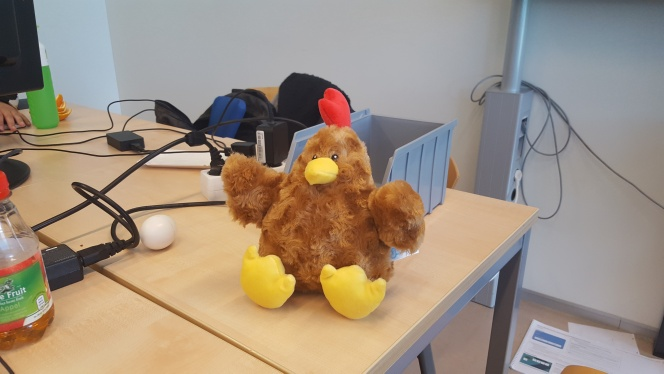chicken_front: (223, 85, 426, 318)
egg: (138, 212, 175, 249)
